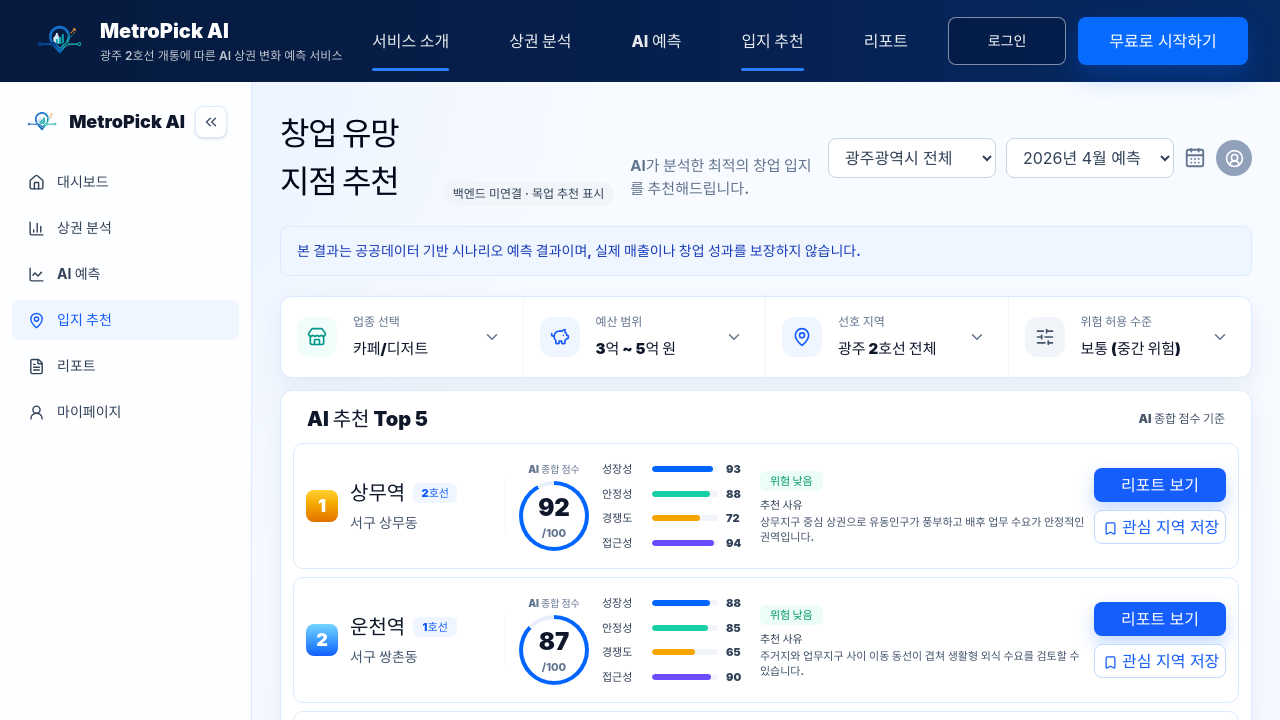
Test: RecommendationPage › saves an interest location through the backend and syncs localStorage
What coordinates should you click on to do the following:
click the button "관심 지역 저장" in the row of "94"
I would click on:
 (1160, 527)
Its box is [1094,510,1226,544].
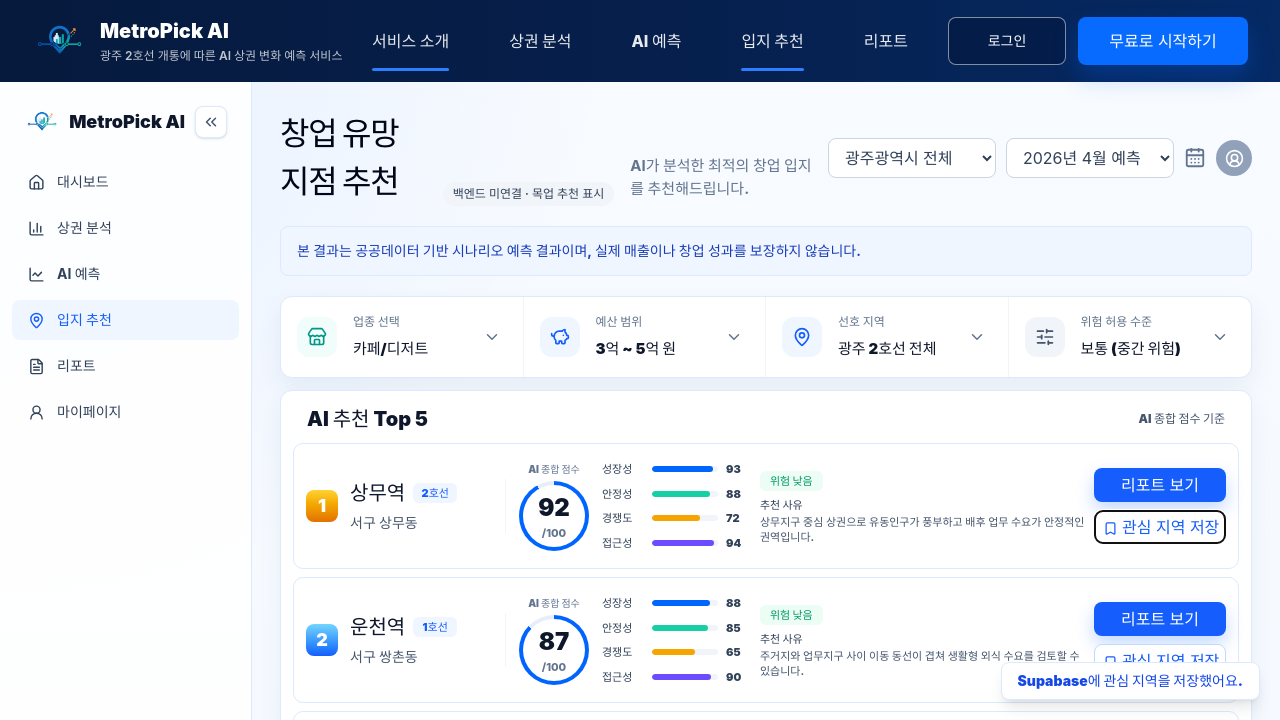
expect the text "Supabase에 관심 지역을 저장했어요." is shown: met, box [1000,662,1260,700]
